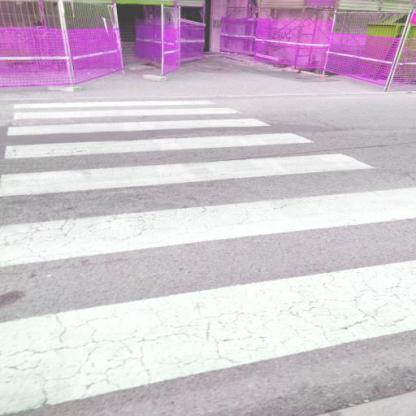crosswalk: (1, 183, 416, 415), (3, 117, 321, 163)
